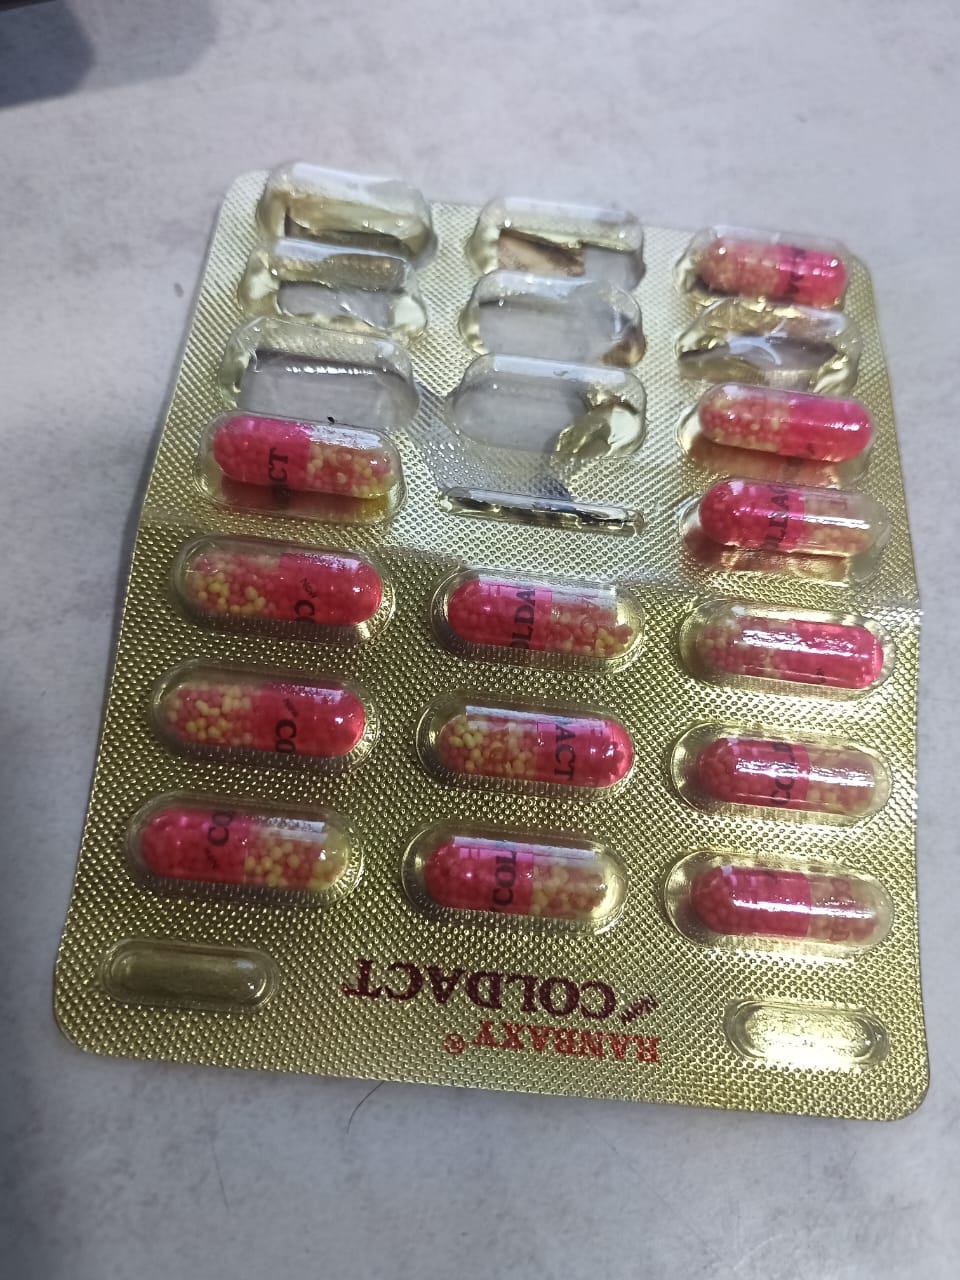Coldact: (109, 772, 363, 906), (668, 566, 908, 698), (415, 678, 658, 796), (654, 838, 894, 951), (421, 560, 674, 667), (138, 663, 378, 775), (177, 519, 372, 654), (195, 400, 396, 529), (679, 453, 911, 564), (672, 718, 902, 829), (415, 814, 619, 938), (672, 208, 881, 304), (681, 374, 897, 453)
